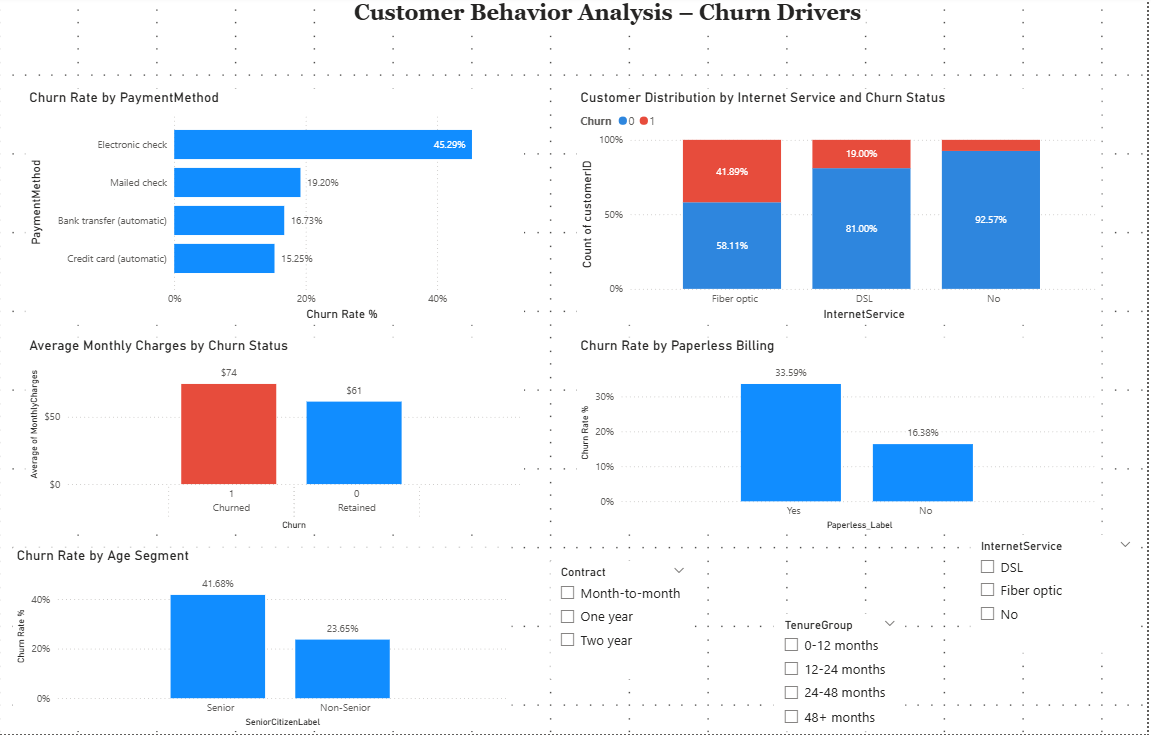

What the dashboard file says about the page in this screenshot:
{"tool":"powerbi","page":{"name":"Customer Behavior Analysis","canvas":[1400,900],"ordinal":1},"visuals":[{"type":"textbox","box":[400,0,656,48],"z":0},{"type":"clusteredBarChart","title":"Churn Rate by PaymentMethod","fields":{"Y":["clean_telco_churn.Churn Rate %"],"Category":["clean_telco_churn.PaymentMethod"]},"box":[32,112,608,288],"z":1000},{"type":"hundredPercentStackedColumnChart","title":"Customer Distribution by Internet Service and Churn Status","fields":{"Category":["clean_telco_churn.InternetService"],"Y":["CountNonNull(clean_telco_churn.customerID)"],"Series":["clean_telco_churn.Churn"]},"box":[704,112,640,288],"z":2000},{"type":"clusteredColumnChart","title":"Average Monthly Charges by Churn Status","fields":{"Category":["clean_telco_churn.ChurnLabel","clean_telco_churn.Churn"],"Y":["Avg(clean_telco_churn.MonthlyCharges)"]},"box":[32,416,608,240],"z":3000},{"type":"clusteredColumnChart","title":"Churn Rate by Paperless Billing","fields":{"Category":["clean_telco_churn.Paperless_Label"],"Y":["clean_telco_churn.Churn Rate %"]},"box":[704,416,640,240],"z":4000},{"type":"clusteredColumnChart","title":"Churn Rate by Age Segment","fields":{"Category":["clean_telco_churn.SeniorCitizenLabel"],"Y":["clean_telco_churn.Churn Rate %"]},"box":[16,672,608,224],"z":5000},{"type":"slicer","fields":{"Values":["clean_telco_churn.Contract"]},"box":[672,688,176,144],"z":6000},{"type":"slicer","fields":{"Values":["clean_telco_churn.TenureGroup"]},"box":[944,752,160,144],"z":7000},{"type":"slicer","fields":{"Values":["clean_telco_churn.InternetService"]},"box":[1184,656,208,144],"z":8000}]}

Visuals, with their boxes in screenshot pixels (x1, y1, x2, y2), scaled from the page's 1400x900 canvas onto the 1151x735 screenshot:
textbox: (left=329, top=0, right=868, bottom=39)
"Churn Rate by PaymentMethod" clusteredBarChart: (left=26, top=91, right=526, bottom=327)
"Customer Distribution by Internet Service and Churn Status" hundredPercentStackedColumnChart: (left=579, top=91, right=1105, bottom=327)
"Average Monthly Charges by Churn Status" clusteredColumnChart: (left=26, top=340, right=526, bottom=536)
"Churn Rate by Paperless Billing" clusteredColumnChart: (left=579, top=340, right=1105, bottom=536)
"Churn Rate by Age Segment" clusteredColumnChart: (left=13, top=549, right=513, bottom=732)
slicer - clean_telco_churn.Contract: (left=552, top=562, right=697, bottom=679)
slicer - clean_telco_churn.TenureGroup: (left=776, top=614, right=908, bottom=732)
slicer - clean_telco_churn.InternetService: (left=973, top=536, right=1144, bottom=653)
